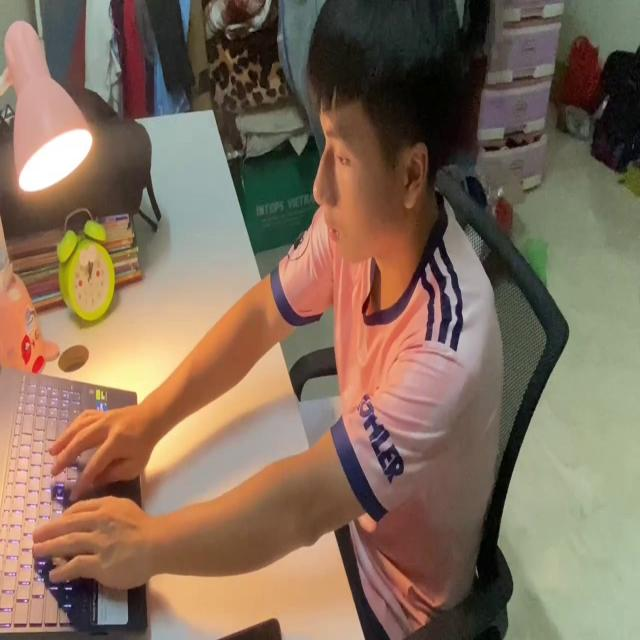book: (297, 391, 340, 441)
laptop: (0, 357, 148, 640)
student: (33, 0, 508, 640)
